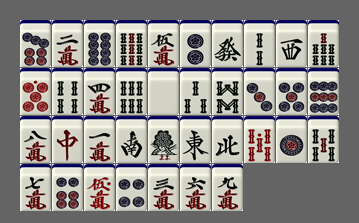0m: (84, 164, 115, 211)
0p: (20, 68, 51, 115)
0s: (244, 116, 275, 163)
1m: (84, 116, 115, 163)
1p: (276, 116, 307, 163)
1s: (148, 116, 179, 163)
1z: (180, 116, 211, 163)
2m: (52, 20, 83, 67)
2p: (180, 20, 211, 67)
2s: (244, 20, 275, 67)
2z: (116, 116, 147, 163)
3m: (148, 164, 179, 211)
3p: (244, 68, 275, 115)
3s: (180, 68, 211, 115)
3z: (276, 20, 307, 67)
4m: (84, 68, 115, 115)
4p: (116, 164, 147, 211)
4s: (52, 68, 83, 115)
4z: (212, 116, 243, 163)
5m: (148, 20, 179, 67)
5p: (276, 68, 307, 115)
5s: (308, 116, 339, 163)
5z: (148, 68, 179, 115)
6m: (180, 164, 211, 211)
6p: (52, 164, 83, 211)
6s: (116, 68, 147, 115)
6z: (212, 20, 243, 67)
7m: (20, 164, 51, 211)
7p: (20, 20, 51, 67)
7s: (308, 20, 339, 67)
7z: (52, 116, 83, 163)
8m: (20, 116, 51, 163)
8p: (84, 20, 115, 67)
8s: (212, 68, 243, 115)
9m: (212, 164, 243, 211)
9p: (308, 68, 339, 115)
9s: (116, 20, 147, 67)
